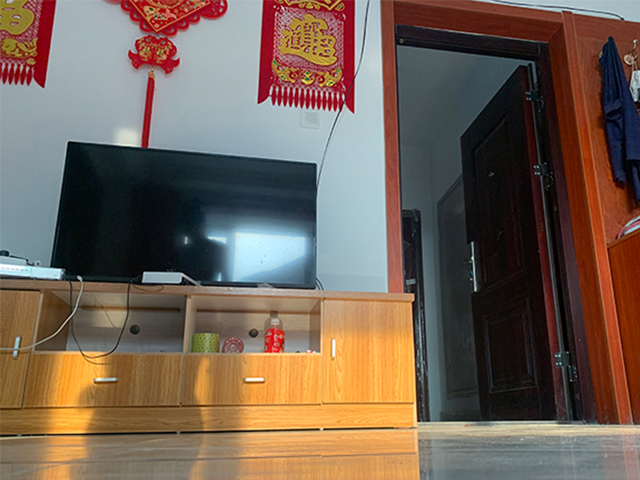cabinet: (1, 276, 419, 437)
wire: (2, 253, 142, 358)
